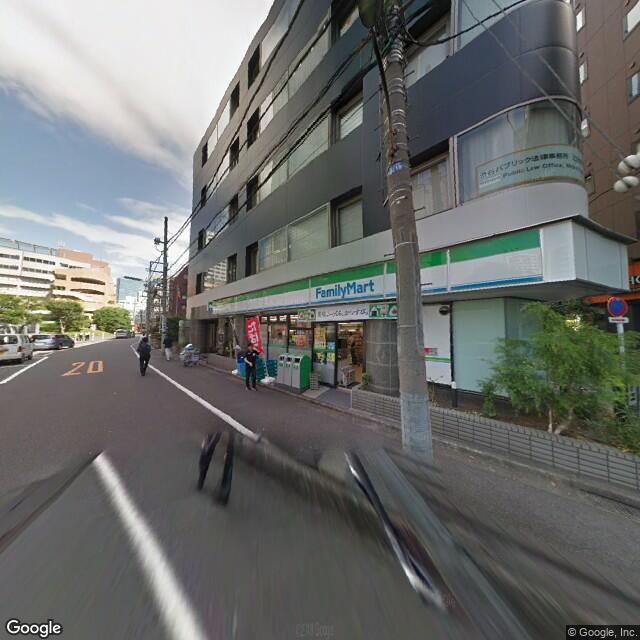family_mart: (211, 222, 546, 312), (313, 269, 377, 302)
